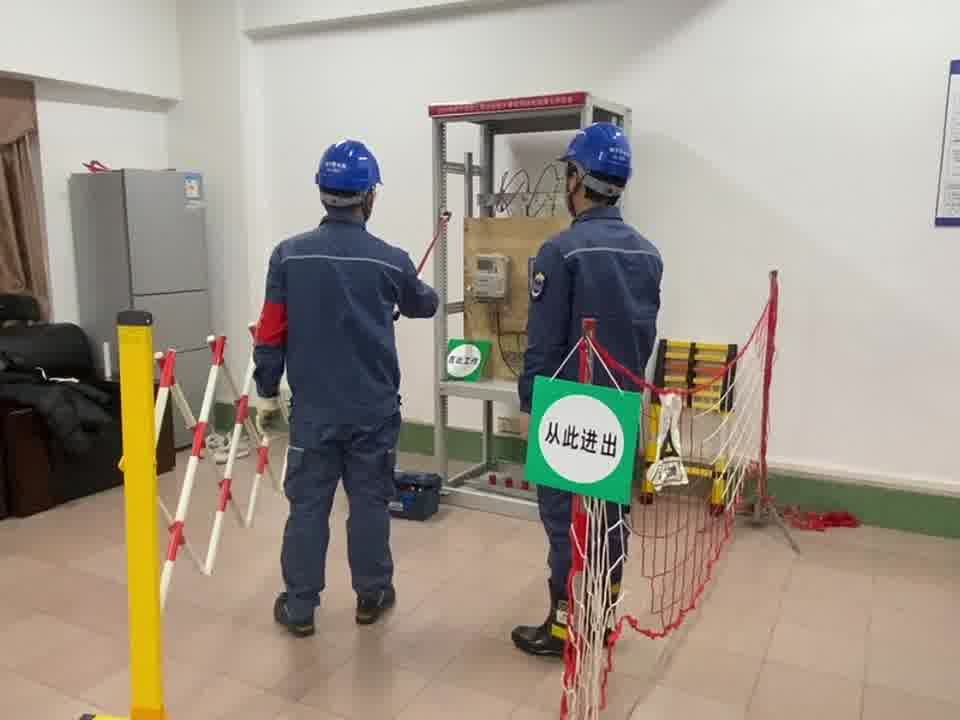badge: (252, 299, 290, 348)
downsuit: (282, 433, 405, 598), (538, 486, 632, 595)
halt: (559, 121, 636, 215), (313, 137, 385, 214)
inear: (564, 167, 586, 209)
intosign: (521, 371, 651, 508)
person: (247, 135, 442, 637), (500, 116, 673, 660)
shoe: (510, 577, 623, 659)
sleeve: (526, 269, 551, 303)
testrod: (394, 211, 452, 316)
upsuit: (248, 218, 441, 434), (517, 209, 667, 419)
wglove: (254, 394, 287, 442)
worksign: (444, 334, 494, 388)
